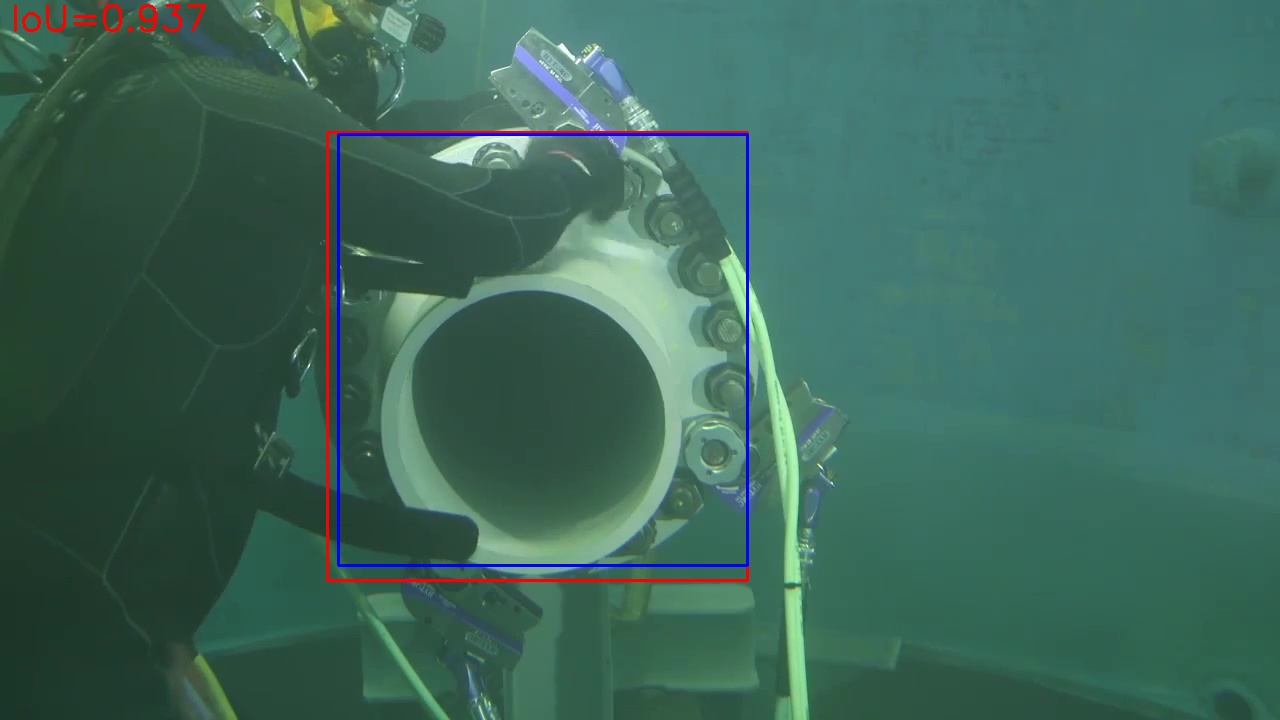flange joint: (328, 133, 748, 581)
